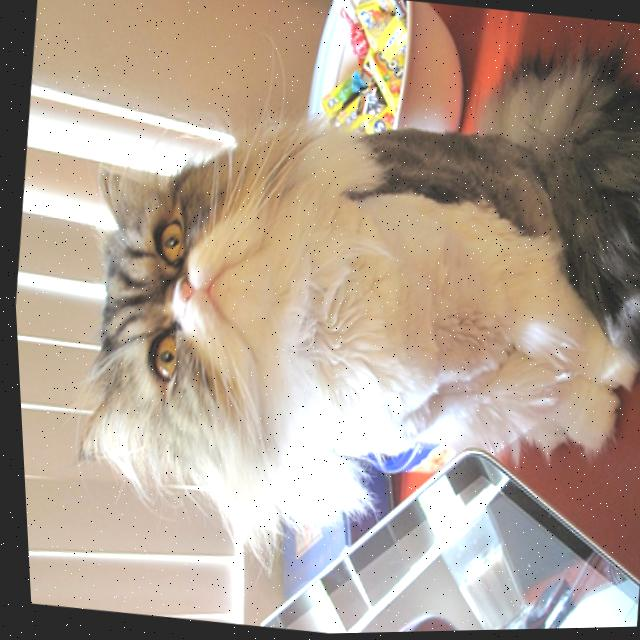Persian: (36, 0, 640, 600)
